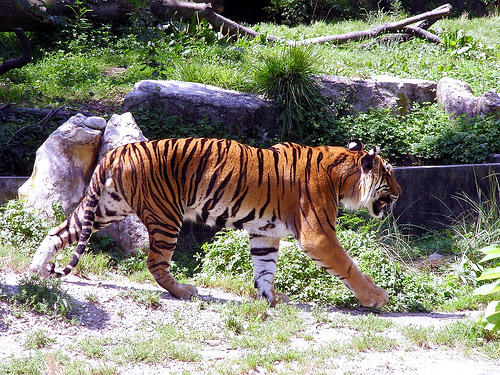Tigre: (54, 133, 425, 329)
